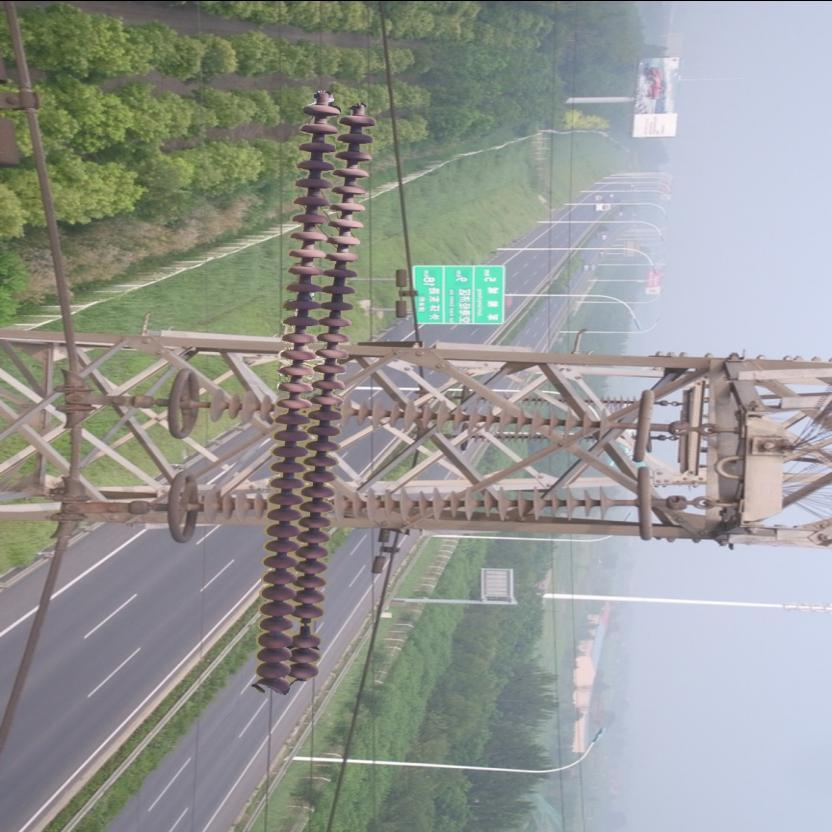defect: (292, 604, 329, 652)
